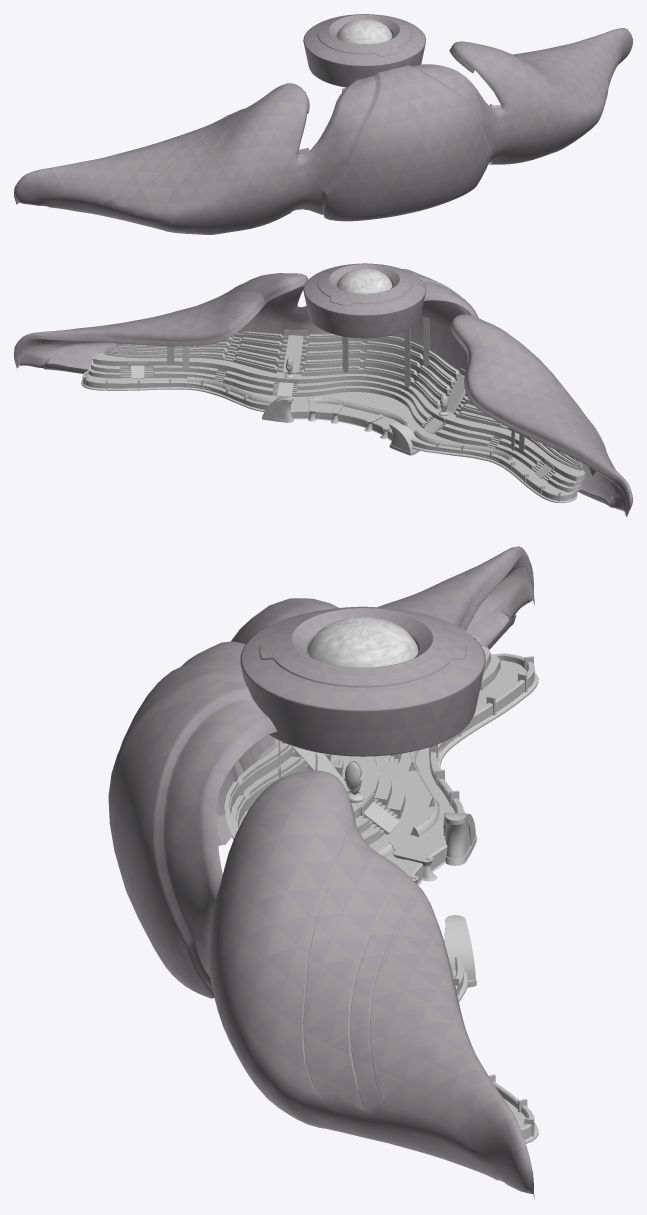
File: pref_Area02_Small_Boss_lv3.fbx
3 renders of one model, top to bottom at view 1: azimuth 30°, elevation 25°; view 2: azimuth 150°, elevation 25°; view 3: azimuth 270°, elevation 25°, orthographic. The views are drawn at different scales.
Parts seen in each view (by area): view 1: pref_sm_beach_techstadium01_b_lv3, pref_sm_beach_techstadium01_c_lv3, pref_sm_beach_techstadium01_a_lv3, pref_sm_beach_techstadium02_lv3; view 2: pref_sm_beach_techstadium01_c_lv3, pref_sm_beach_techstadium01_a_lv3, pref_sm_beach_techgrandstand01_b_lv3, pref_sm_beach_techgrandstand01_c_lv3, pref_sm_beach_techstadium02_lv3, pref_sm_beach_techgrandstand01_a_lv3, pref_sm_beach_techstadium01_b_lv3, pref_sm_beach_techstadium06_bottom_floor_lv3, pref_sm_beach_techstadium06_bottom_a_lv3, pref_sm_beach_techstadium06_bottom_b_lv3, pref_sm_beach_techstadium06_bottom_c_lv3, pref_sm_beach_techled03_lv3 (+2 smaller); view 3: pref_sm_beach_techstadium01_a_lv3, pref_sm_beach_techstadium01_b_lv3, pref_sm_beach_techstadium02_lv3, pref_sm_beach_techstadium01_c_lv3, pref_sm_beach_techstadium06_bottom_floor_lv3, pref_sm_beach_techstadium06_bottom_a_lv3, pref_sm_beach_techgrandstand01_a_lv3, pref_sm_beach_techgrandstand01_b_lv3, pref_sm_beach_techstadium06_bottom_c_lv3, pref_sm_beach_techstadium06_bottom_b_lv3.
Part boxes in pixels (x1,y1,x2,y2): pref_sm_beach_techstadium01_b_lv3: (292,64,510,221); pref_sm_beach_techstadium01_c_lv3: (14,83,309,234); pref_sm_beach_techstadium01_a_lv3: (449,28,632,164); pref_sm_beach_techstadium02_lv3: (303,14,425,87); pref_sm_beach_techstadium01_c_lv3: (449,314,632,517); pref_sm_beach_techstadium01_a_lv3: (14,273,308,373); pref_sm_beach_techgrandstand01_b_lv3: (297,334,459,427); pref_sm_beach_techgrandstand01_c_lv3: (88,330,307,396); pref_sm_beach_techstadium02_lv3: (303,263,425,338); pref_sm_beach_techgrandstand01_a_lv3: (422,368,585,492); pref_sm_beach_techstadium01_b_lv3: (292,269,478,372); pref_sm_beach_techstadium06_bottom_floor_lv3: (86,374,569,493); pref_sm_beach_techstadium06_bottom_a_lv3: (262,396,419,455); pref_sm_beach_techstadium06_bottom_b_lv3: (81,370,270,411); pref_sm_beach_techstadium06_bottom_c_lv3: (410,438,577,503); pref_sm_beach_techled03_lv3: (166,317,524,450); pref_sm_beach_techstadium01_a_lv3: (209,770,534,1199); pref_sm_beach_techstadium01_b_lv3: (108,641,276,998); pref_sm_beach_techstadium02_lv3: (240,606,485,756); pref_sm_beach_techstadium01_c_lv3: (231,546,534,776); pref_sm_beach_techstadium06_bottom_floor_lv3: (368,660,526,1126); pref_sm_beach_techstadium06_bottom_a_lv3: (390,812,476,987); pref_sm_beach_techgrandstand01_a_lv3: (282,635,500,836); pref_sm_beach_techgrandstand01_b_lv3: (224,743,380,844); pref_sm_beach_techstadium06_bottom_c_lv3: (429,653,538,813); pref_sm_beach_techstadium06_bottom_b_lv3: (453,956,538,1143).
Size of the model in its own units: 126 by 29.98 by 37.92.
